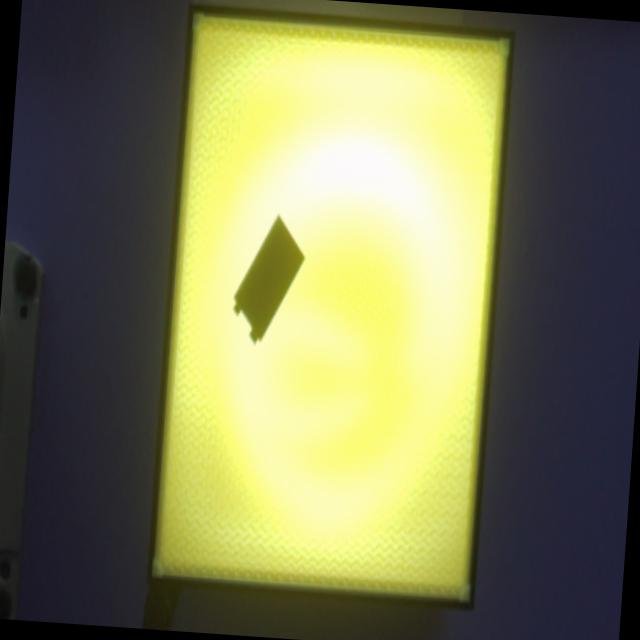bateria: (232, 214, 304, 343)
mesa: (147, 3, 515, 611)
